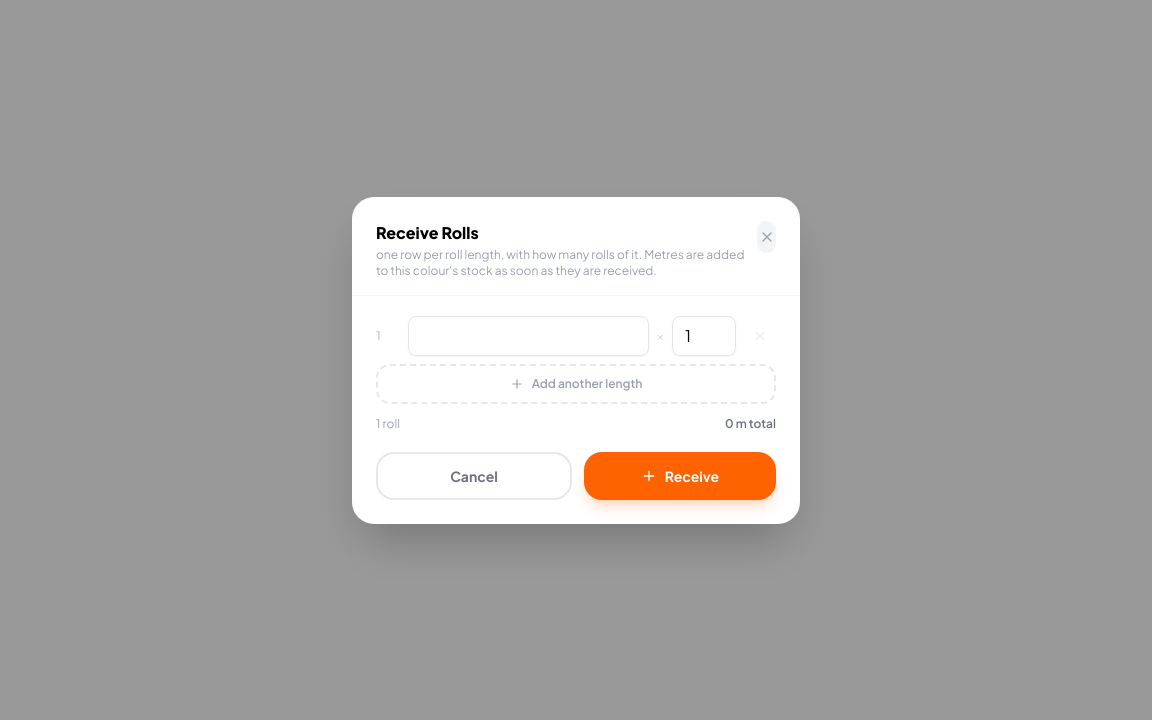
Test case: ReceiveRollsDialog › refuses more rolls than one delivery can hold
In the number field named "Roll 1 metres": (528, 336) [408, 316, 649, 356], type "100"
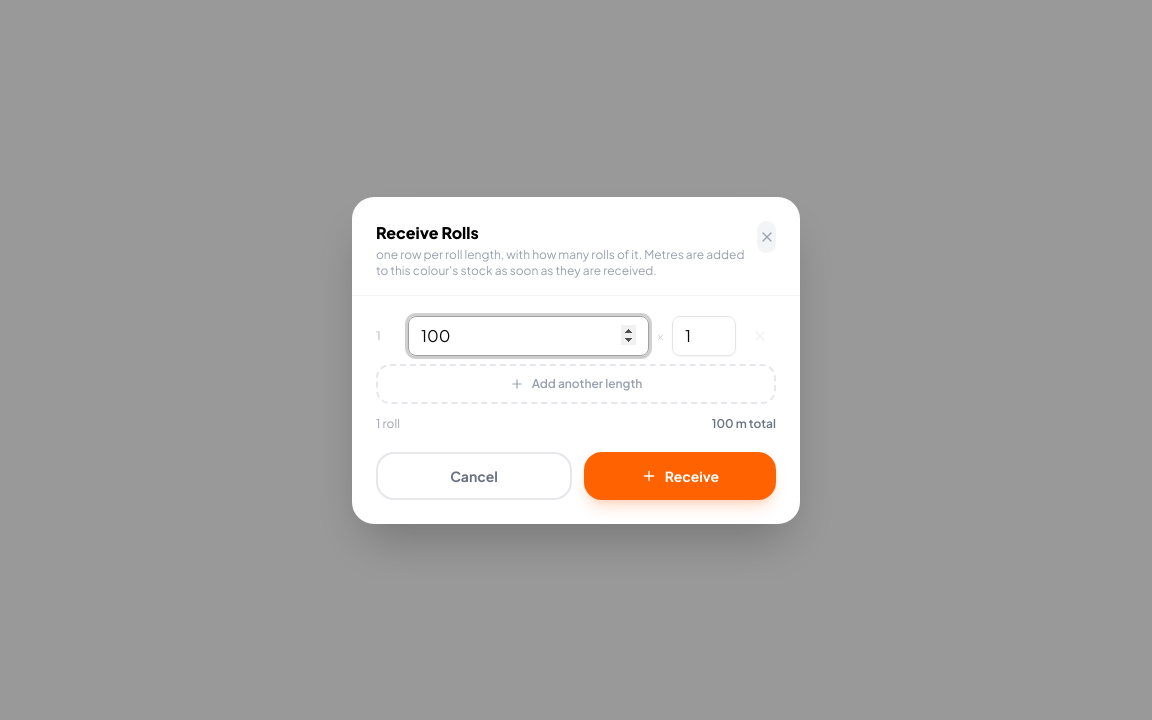
Replace the text in the number field named "Roll 1 count" with "600": (704, 336) [672, 316, 736, 356]
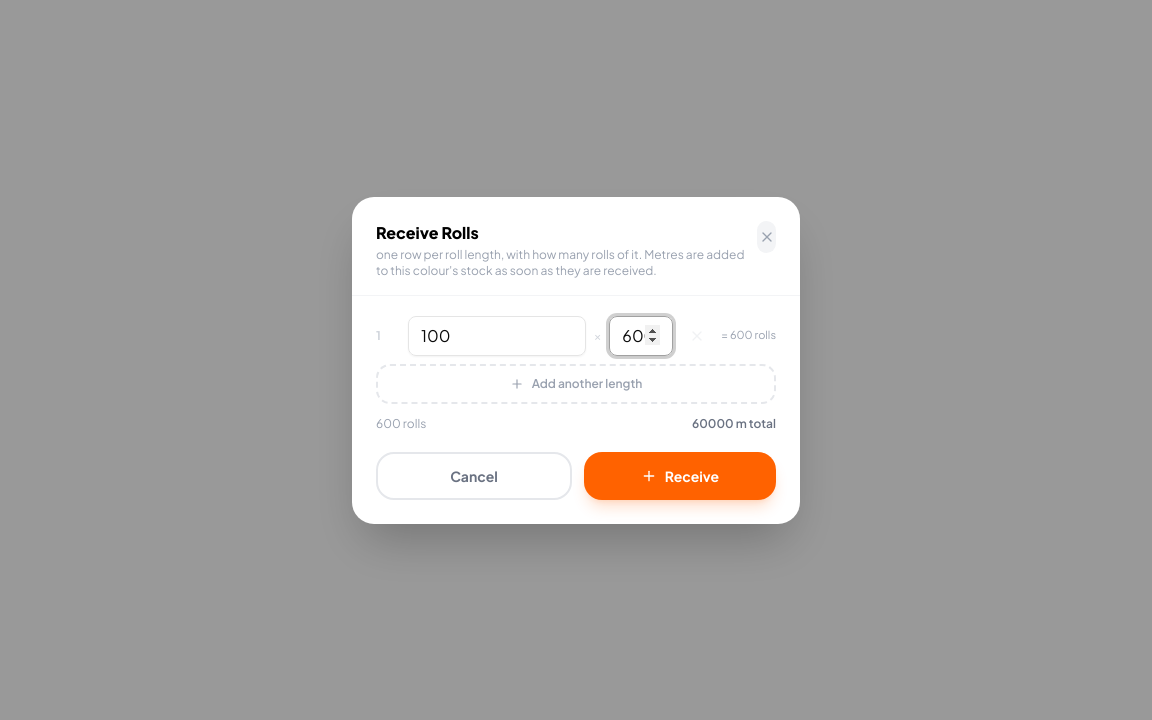
Click the button "Receive": (680, 476) [584, 452, 776, 500]
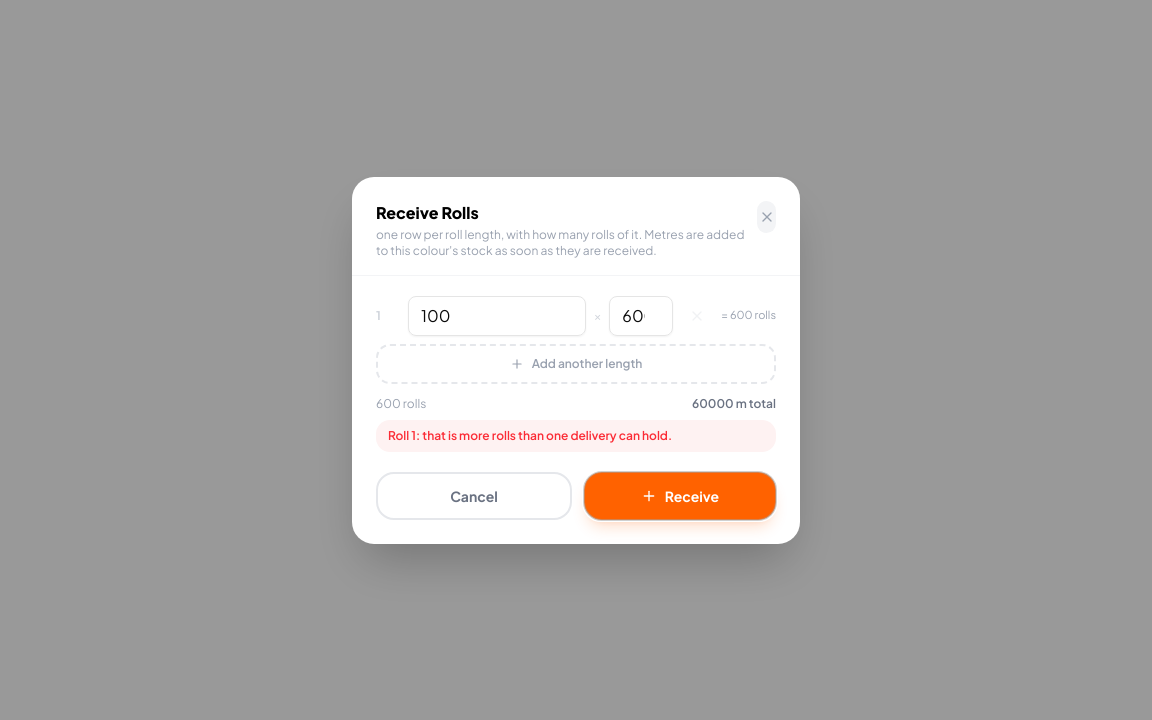
Expected: the text "Roll 1: that is more rolls than one delivery can hold." is shown, [376, 420, 776, 452]
